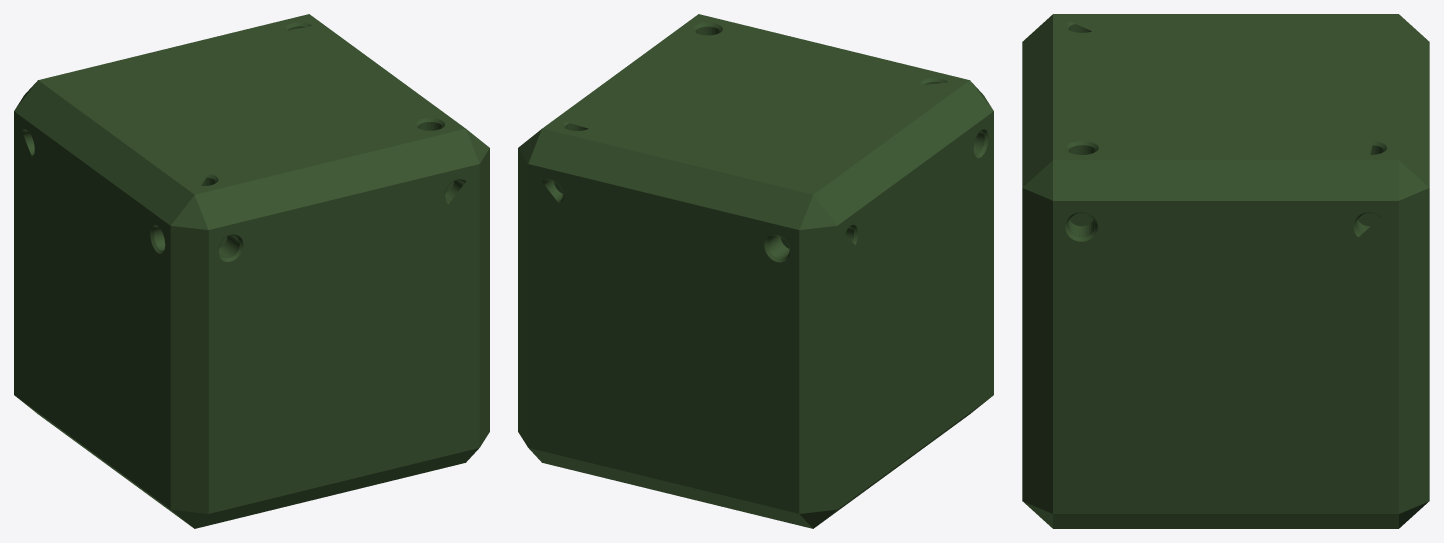
The model's file is green box 3.fbx.
3 views of the same model, side by side, from view 1: azimuth 30°, elevation 25°; view 2: azimuth 150°, elevation 25°; view 3: azimuth 270°, elevation 25° (orthographic). The views are drawn at different scales.
Parts seen in each view (by area): view 1: pasted__Cube; view 2: pasted__Cube; view 3: pasted__Cube.
Part boxes in pixels (x1,y1,x2,y2): pasted__Cube: (14, 14, 489, 528); pasted__Cube: (518, 14, 993, 528); pasted__Cube: (1022, 14, 1429, 528).
Bounding box in the file's own units: 10.46 × 10.46 × 10.46.
